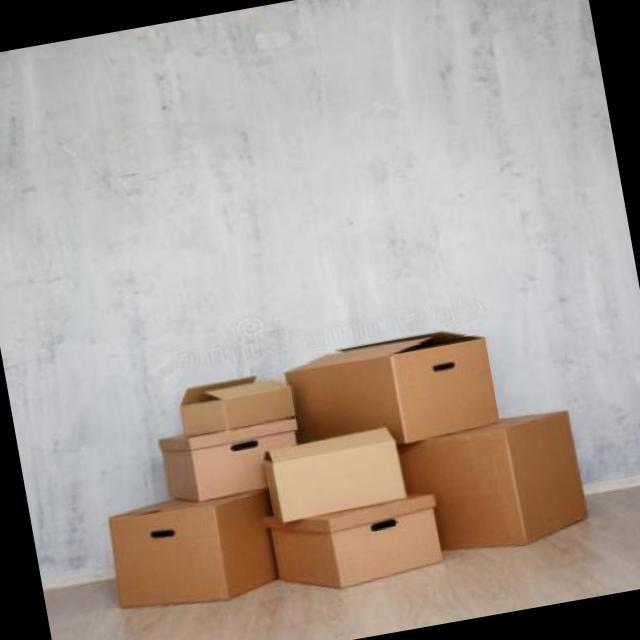box: (294, 320, 509, 466), (404, 406, 592, 570), (94, 488, 280, 617), (266, 497, 450, 619), (251, 420, 414, 522), (137, 413, 308, 502), (168, 361, 292, 432)
